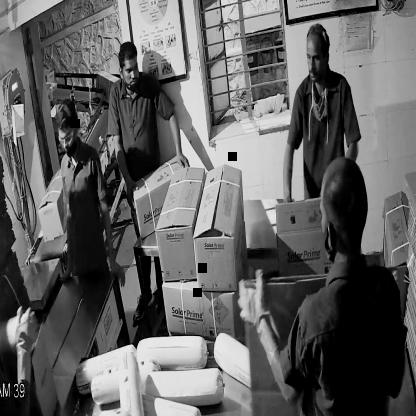goggles: (55, 125, 82, 151)
no_goggles: (303, 44, 332, 71)
